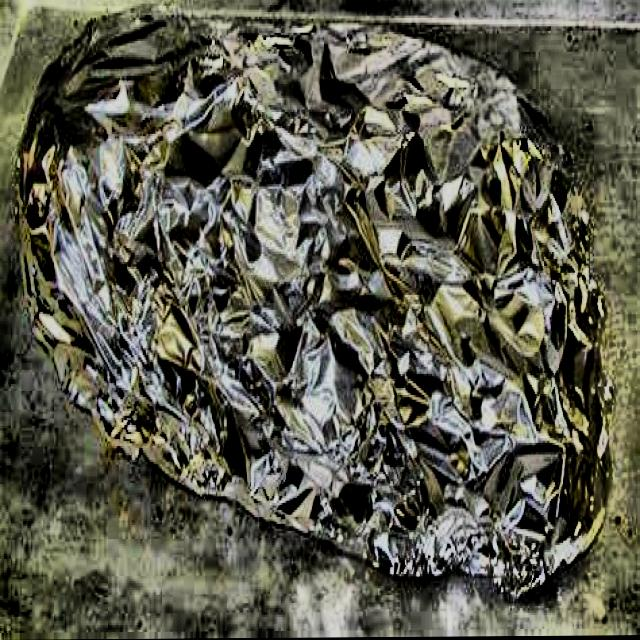Foil: (12, 0, 620, 640)
